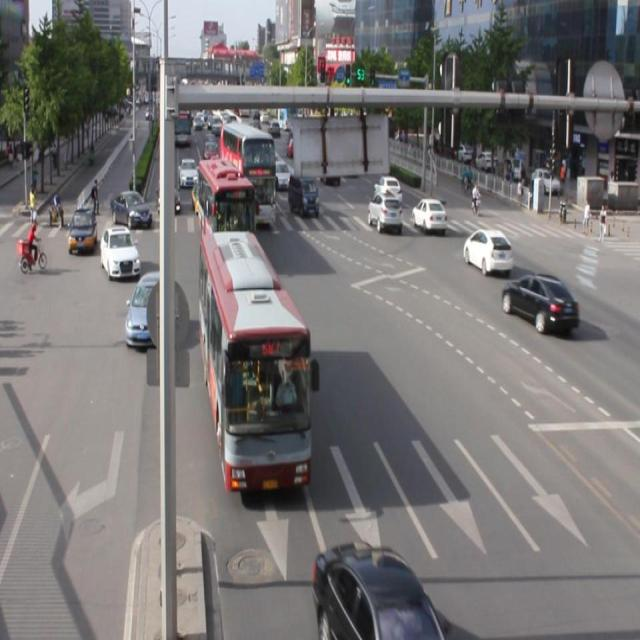car: (314, 538, 443, 640), (500, 270, 580, 334), (126, 268, 172, 348), (463, 226, 512, 272), (100, 223, 140, 278), (367, 190, 403, 233), (412, 195, 448, 230)
van: (199, 233, 309, 486), (199, 158, 256, 252)
